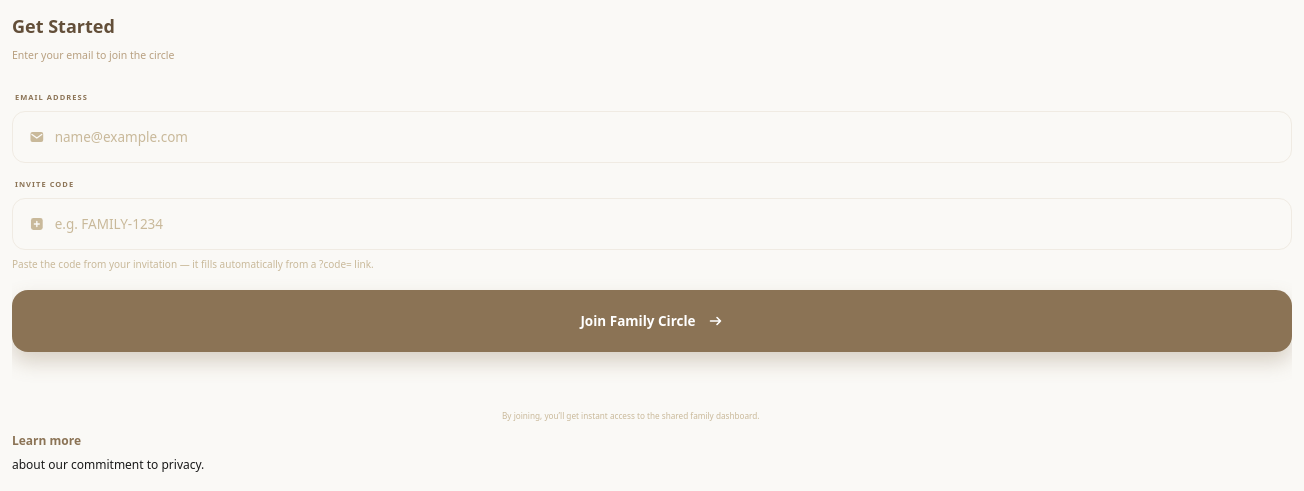
Test: JoinFamilyForm › shows a validation error for a short invite code
Type "ada@example.com" into the field labelled "EMAIL ADDRESS" at [665, 137], box [55,112,1275,162]
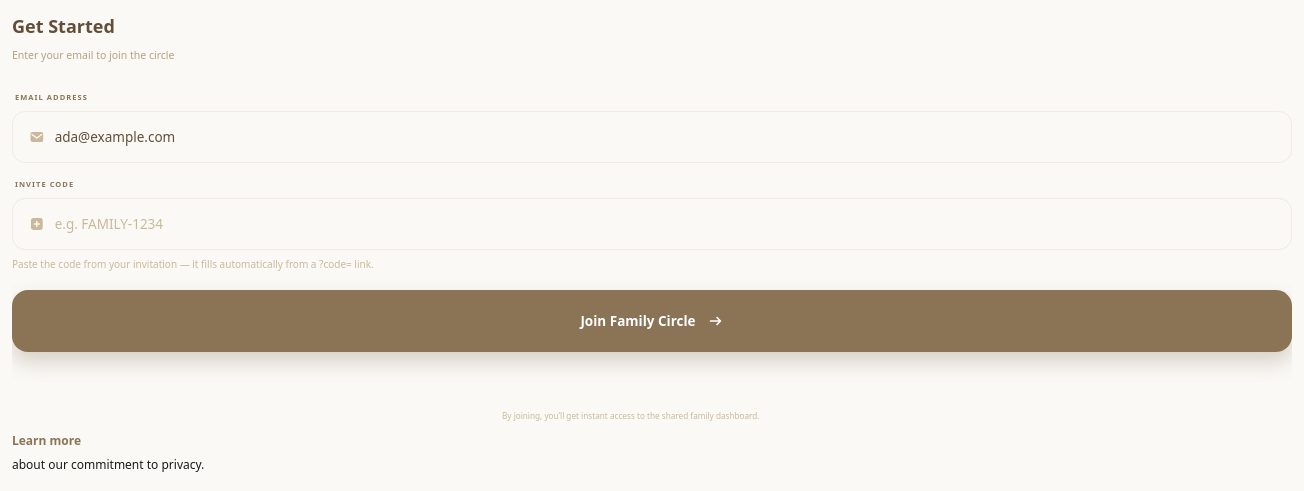
Type "ab" into the field labelled "INVITE CODE" at [665, 224], box [55,199,1275,249]
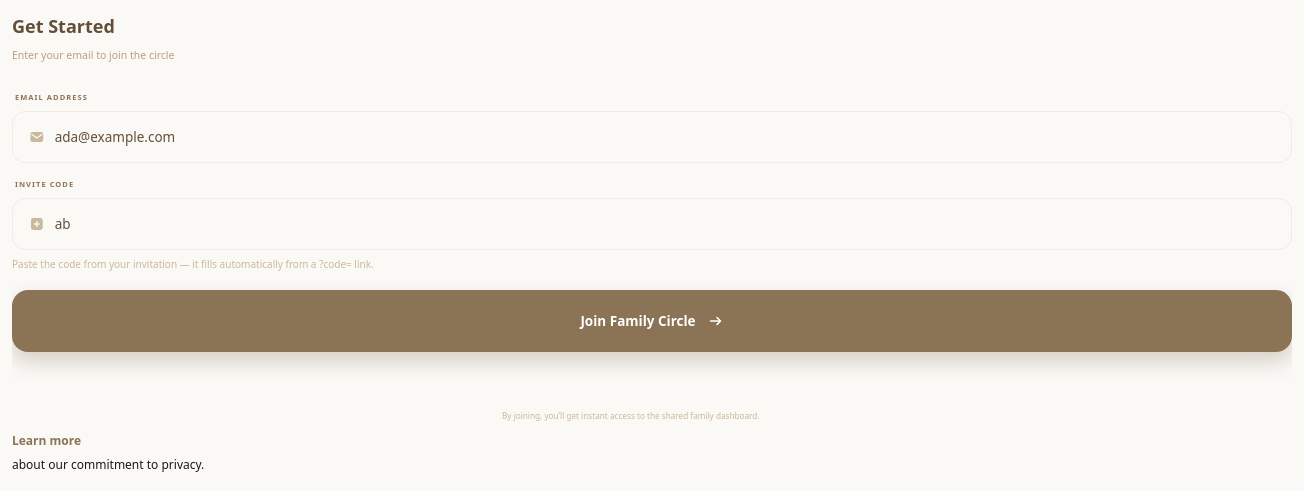
Click the button "Join Family Circle" at [652, 321], box [12,290,1292,352]
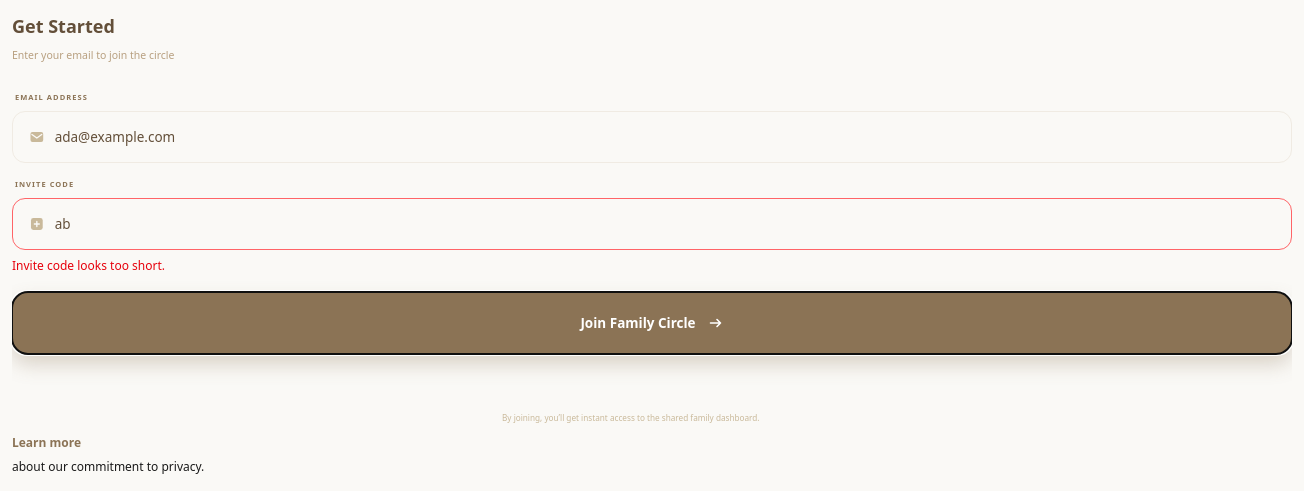
Now the message shows "too short", box [12,257,165,274]
